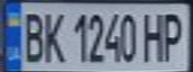0: (118, 9, 142, 63)
1: (66, 9, 90, 63)
2: (84, 9, 106, 63)
4: (103, 9, 124, 63)
B: (18, 8, 48, 63)
H: (139, 9, 169, 62)
K: (39, 8, 69, 63)
P: (157, 8, 190, 62)
